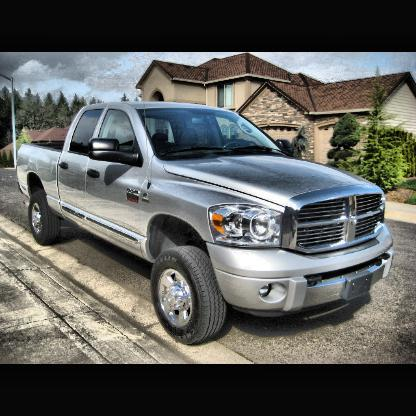Dodge Ram Pickup 3500 Quad Cab 2009: (18, 104, 394, 347)
